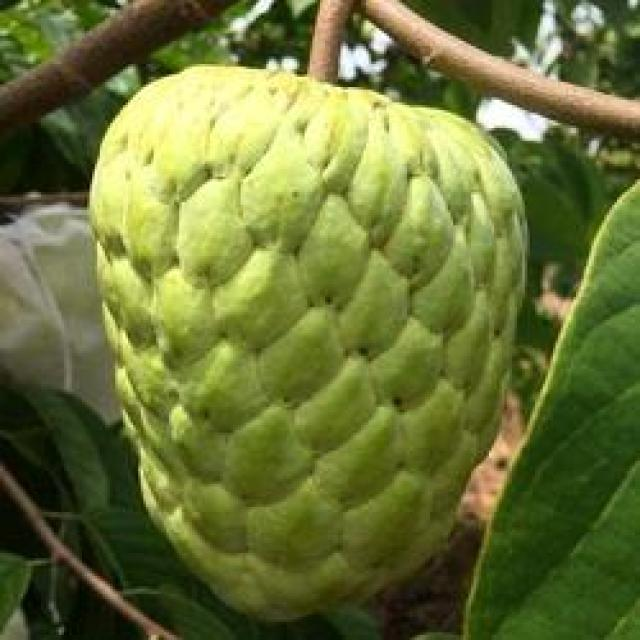apple: (85, 59, 499, 619)
